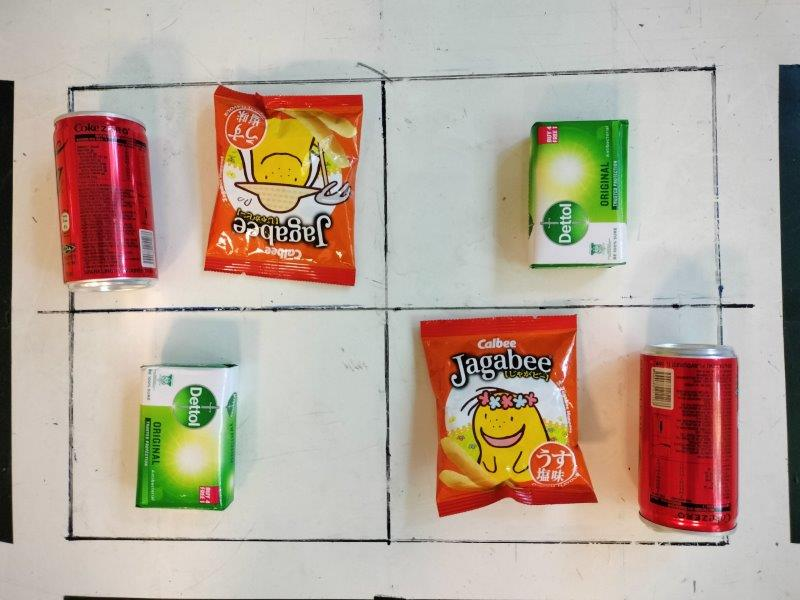Coke: (638, 339, 741, 535), (52, 111, 160, 293)
Dettol: (528, 119, 631, 269), (136, 365, 239, 513)
Jagabee: (420, 313, 598, 520), (205, 85, 362, 288)
